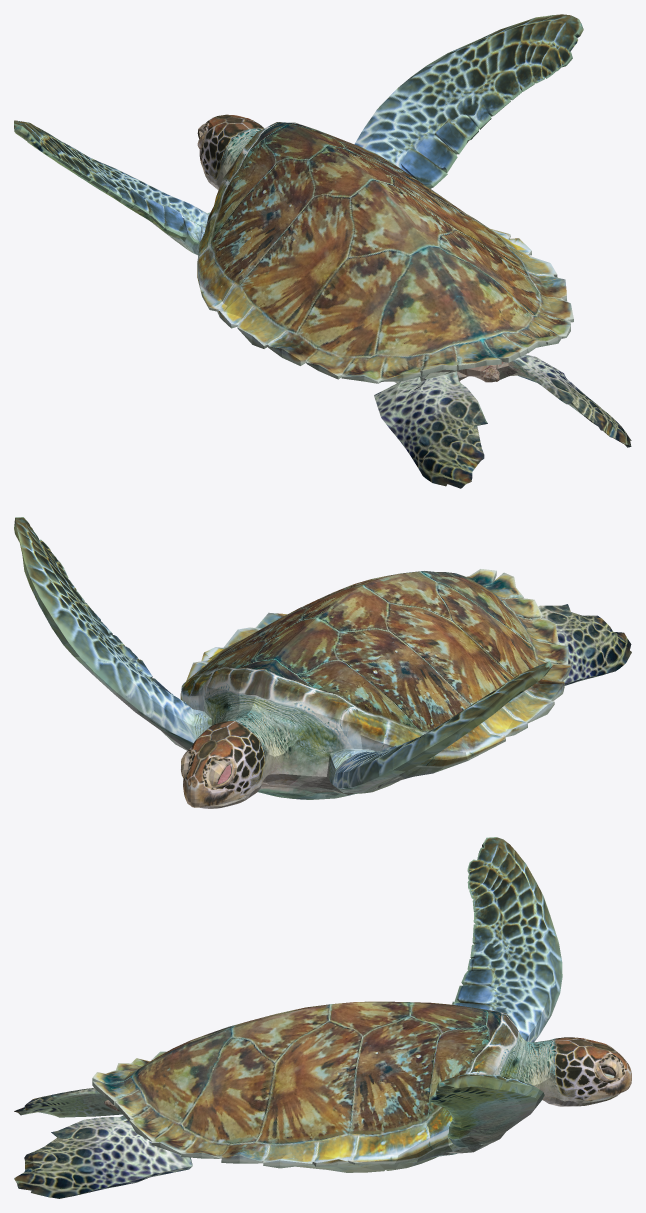
File: frame_35.obj
3 renders of one model, top to bottom at view 1: azimuth 30°, elevation 25°; view 2: azimuth 150°, elevation 25°; view 3: azimuth 270°, elevation 25°, orthographic. The views are drawn at different scales.
Visible parts, largest first — view 1: Turtle GEO Turtle; view 2: Turtle GEO Turtle; view 3: Turtle GEO Turtle.
Boxes of the visible parts, left/top/right/bottom form: Turtle GEO Turtle: left=14, top=14, right=631, bottom=488; Turtle GEO Turtle: left=14, top=517, right=631, bottom=808; Turtle GEO Turtle: left=14, top=837, right=631, bottom=1198.
Size of the model in its own units: 91.78 by 36.45 by 100.
1 material, 1 textured.
